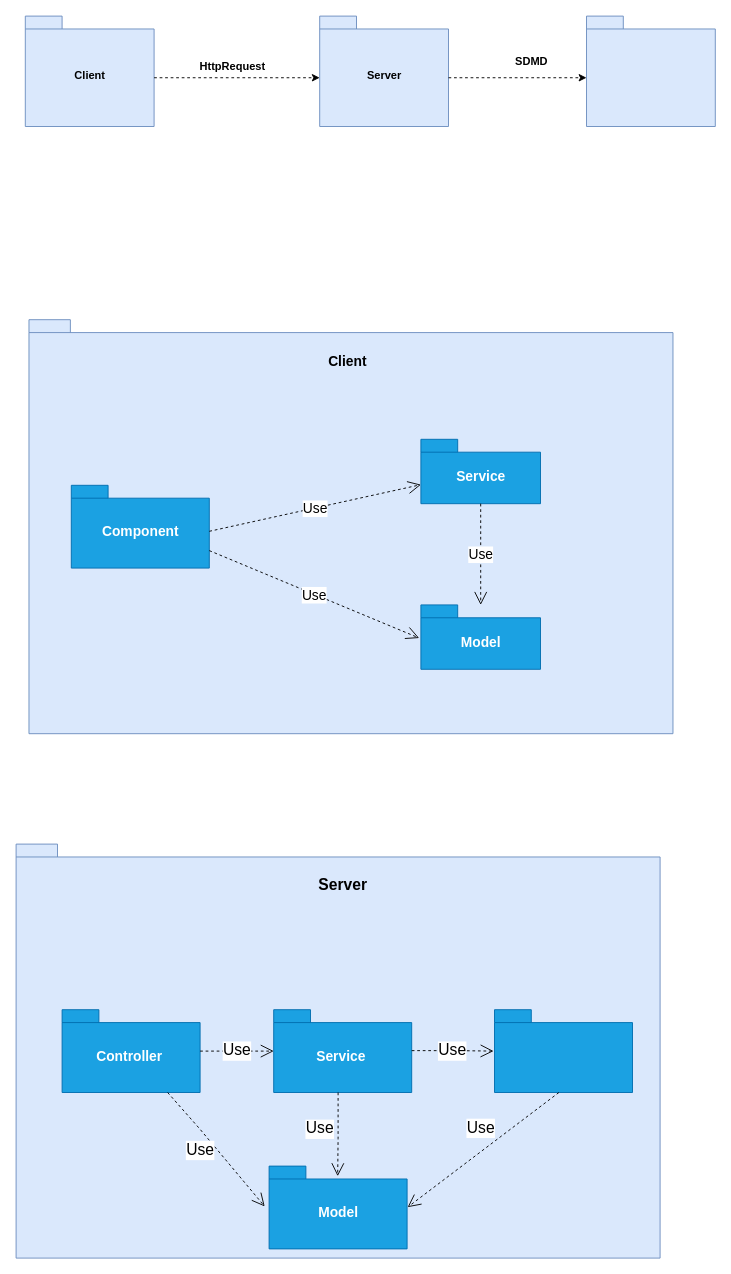
Image size: 731x1274. Some labels were removed from this diagram. Here are the shapes that lost their labels. From the top down, the centre of each, then its label:
point (650, 70): Database
point (563, 1050): DAO
